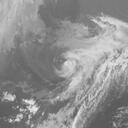cyclone: (53, 40, 102, 82)
